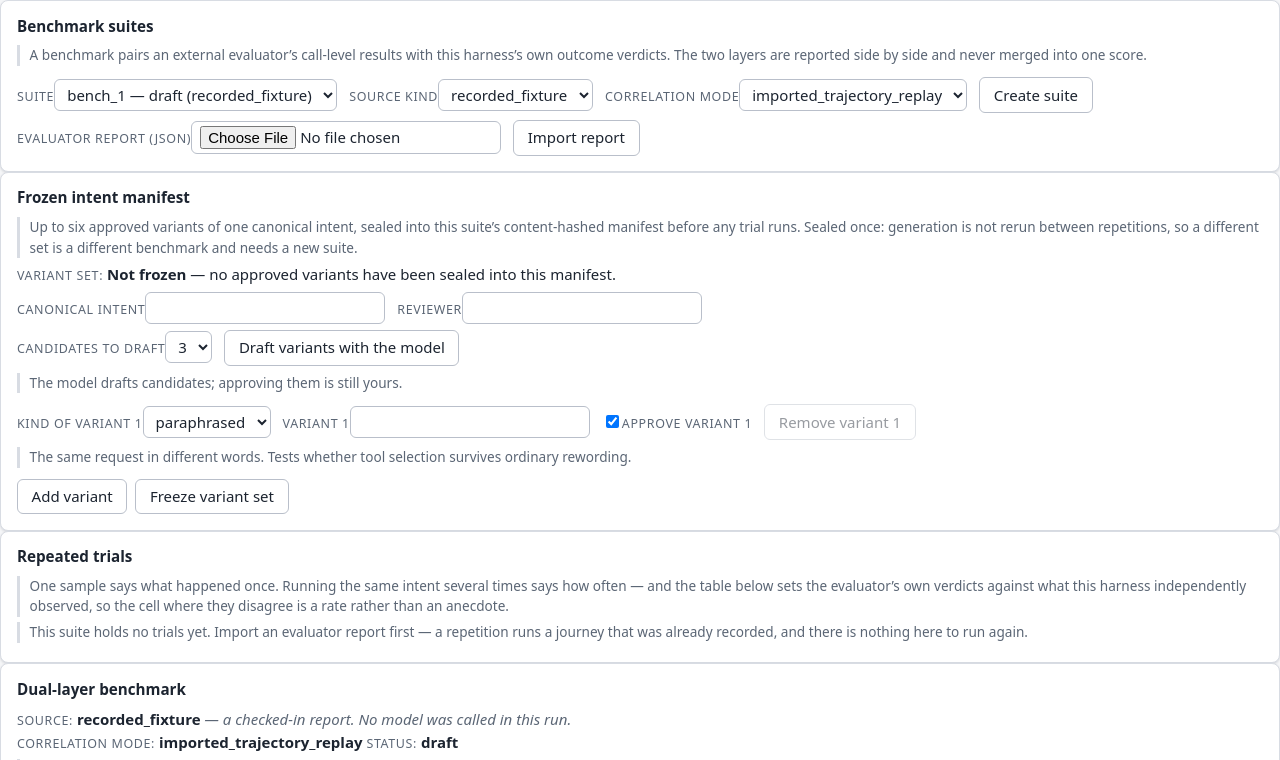
Test: BenchmarkSection — the frozen intent manifest › will not send an empty variant
In the field labelled "Canonical intent": (265, 308) [145, 292, 385, 324], type "Add one ceramic mug to the cart and apply the SAVE20 discount."
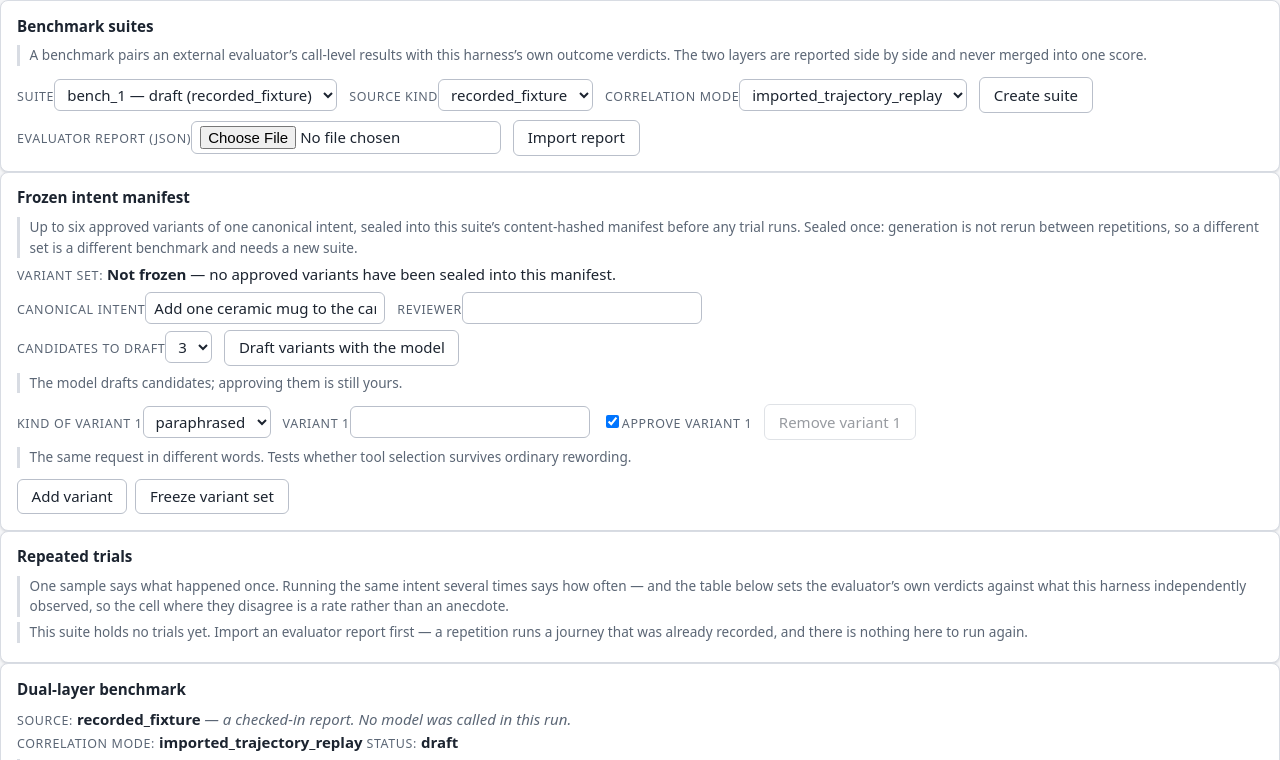
In the field labelled "Reviewer": (582, 308) [462, 292, 702, 324], type "ada"
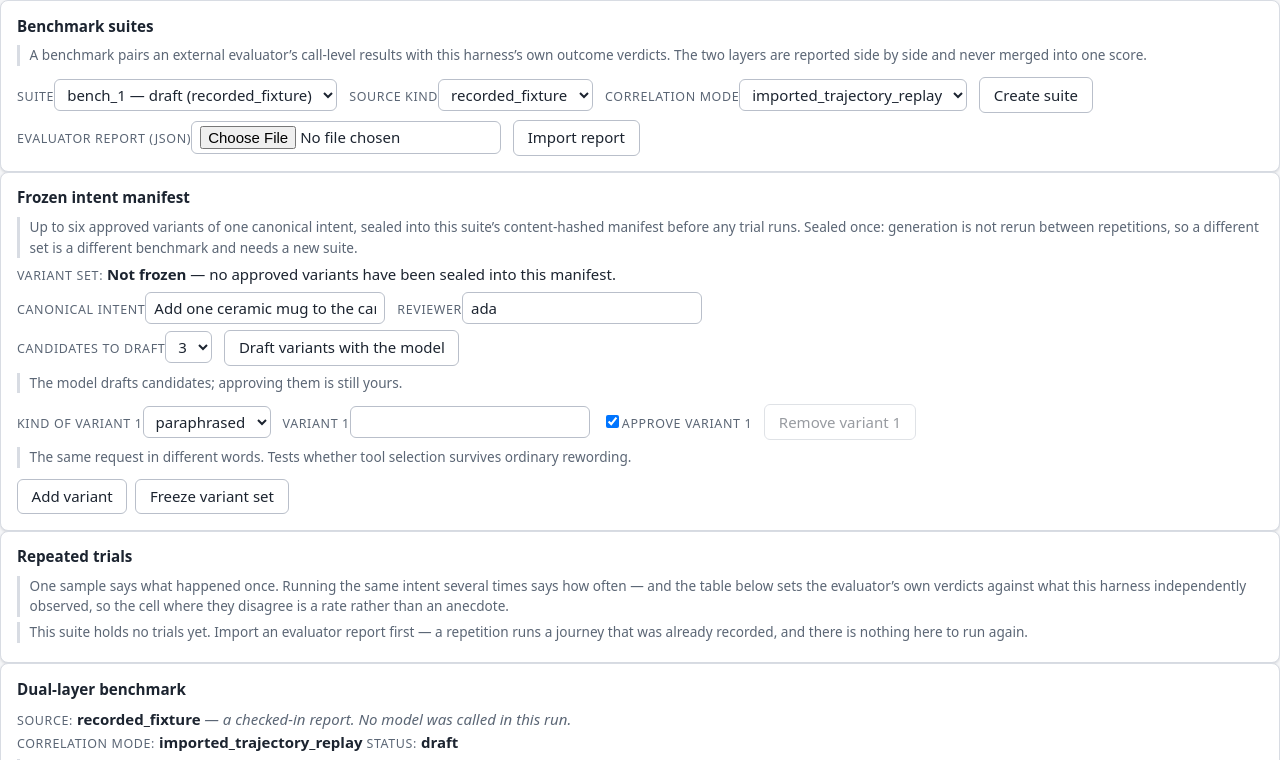
# Act — the row is still blank.
Click the button "Freeze variant set": (212, 497) [135, 479, 288, 514]
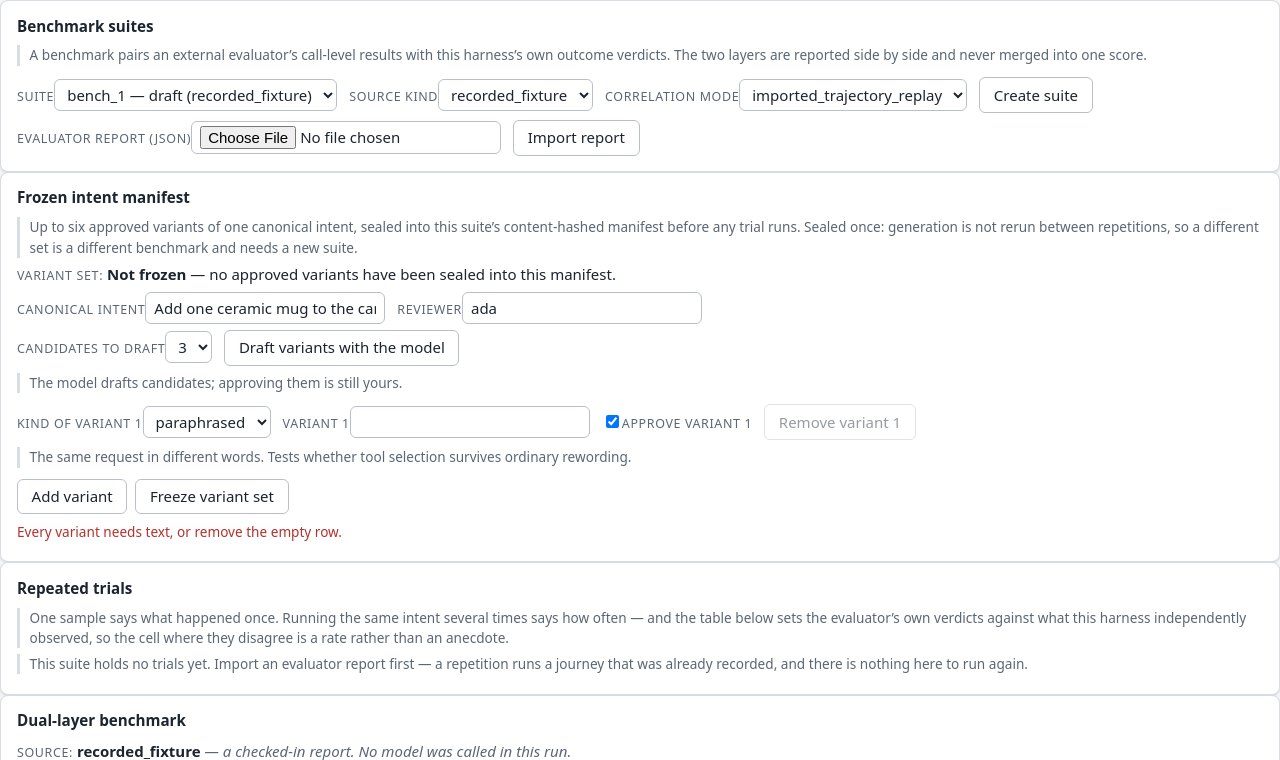
Expected: the text "Every variant needs text, or remove the empty row." is shown, [17, 522, 342, 541]
